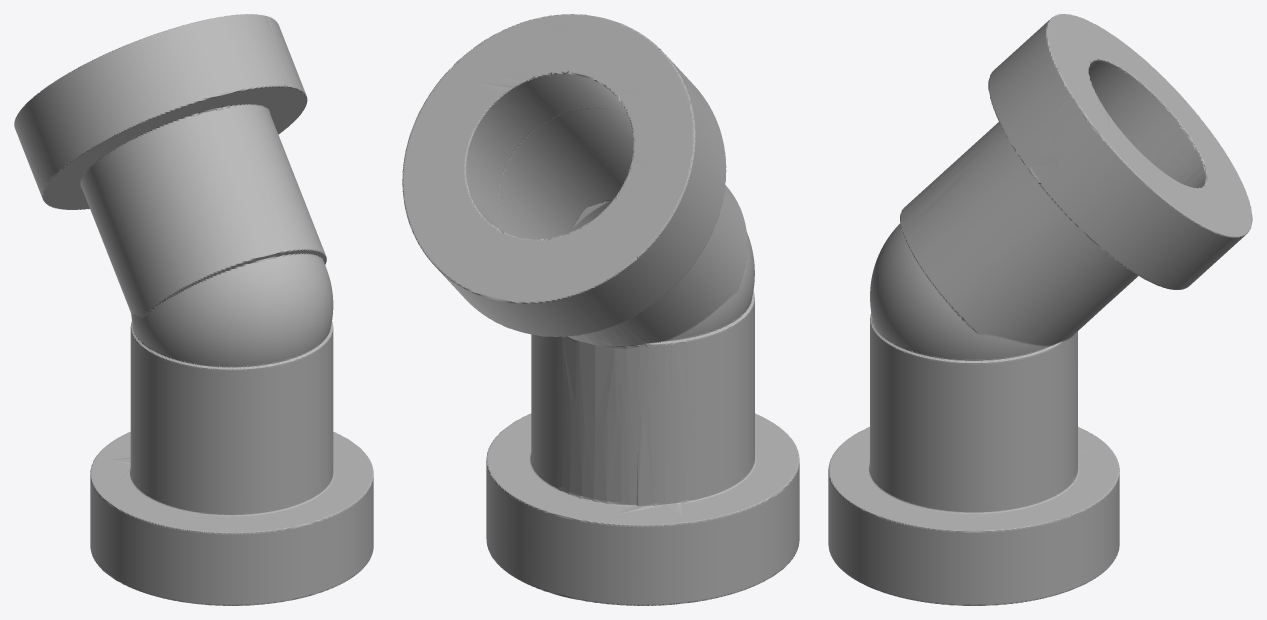
Rendered from Pipe4.fbx.
The picture shows the model from 3 angles, left to right: view 1: azimuth 30°, elevation 25°; view 2: azimuth 150°, elevation 25°; view 3: azimuth 270°, elevation 25°; orthographic projection. The views are drawn at different scales.
Visible parts, largest first — view 1: Pipe4; view 2: Pipe4; view 3: Pipe4.
Boxes of the visible parts, left/top/right/bottom form: Pipe4: left=14, top=14, right=373, bottom=605; Pipe4: left=402, top=14, right=799, bottom=605; Pipe4: left=828, top=14, right=1252, bottom=605.
Bounding box in the file's own units: 199 × 386 × 290.
